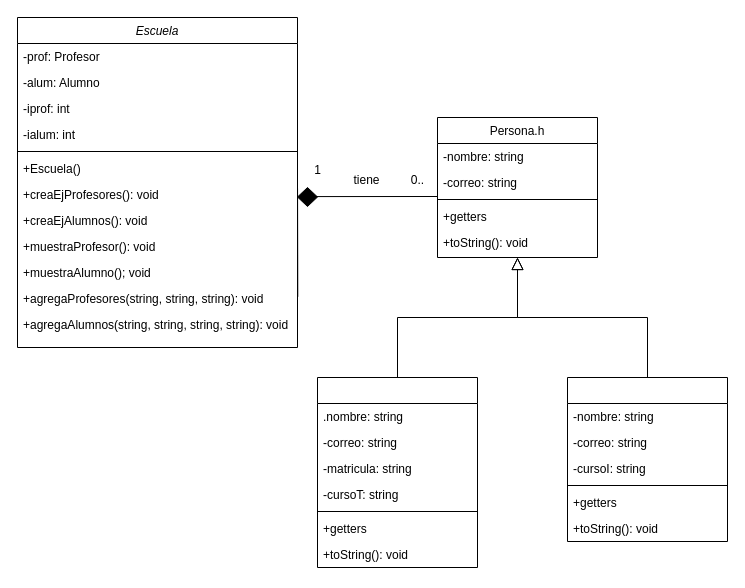
This 745x588 diagram has some shape labels left out. The shapes that lost their labels are listed below. From the top down, each one's box as (x1, y1, x2, y2) in pixels, then its label:
(316, 376, 478, 568): Alumno
(566, 376, 728, 542): Profesor
